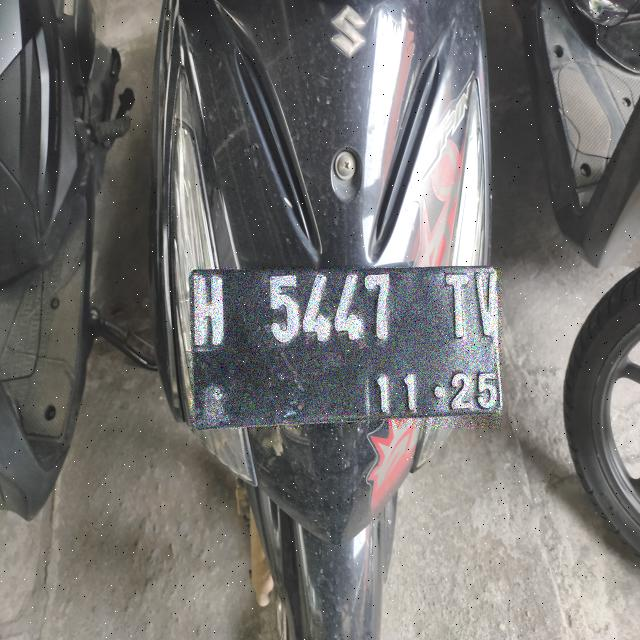plate: (191, 268, 501, 428)
